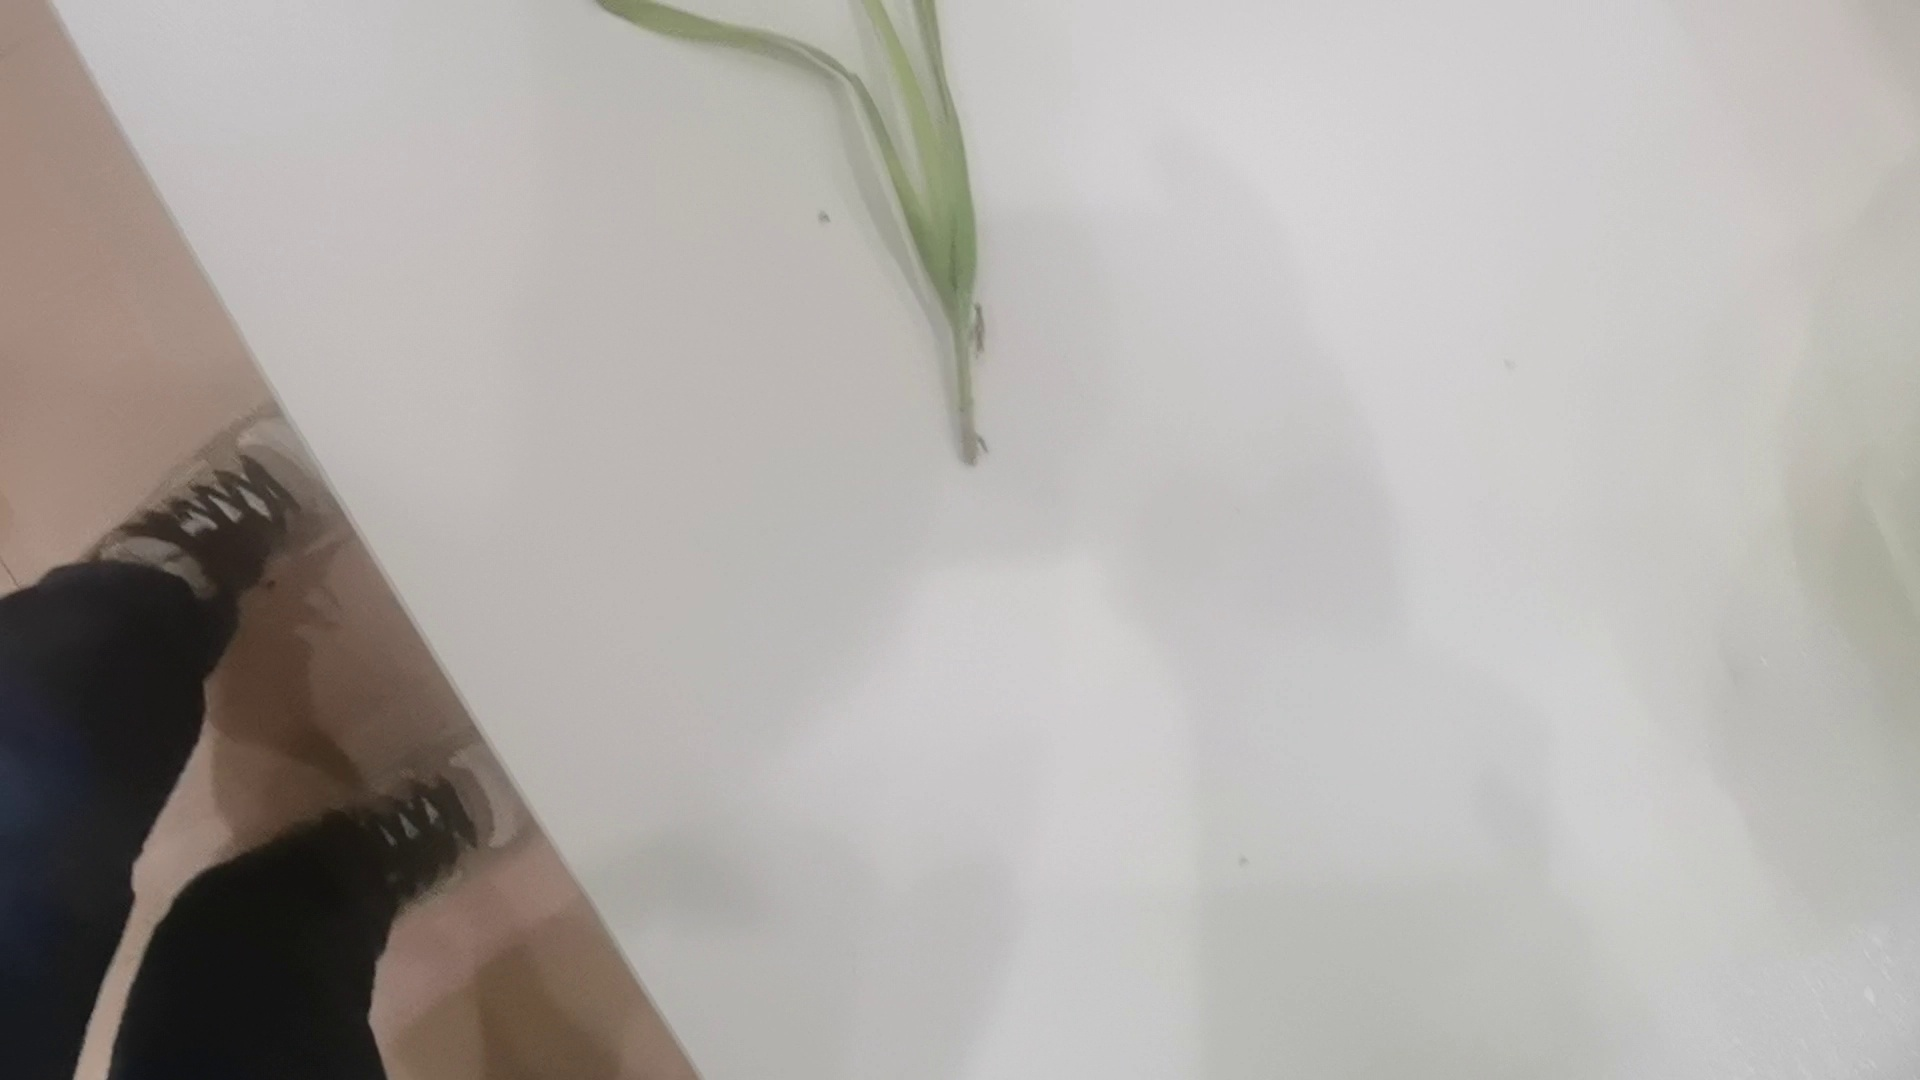chives: (593, 3, 997, 469)
